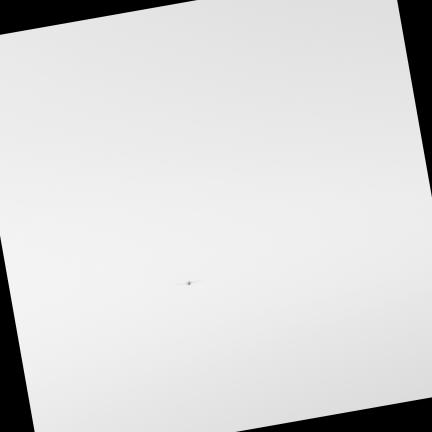Shahed: (174, 279, 203, 286)
